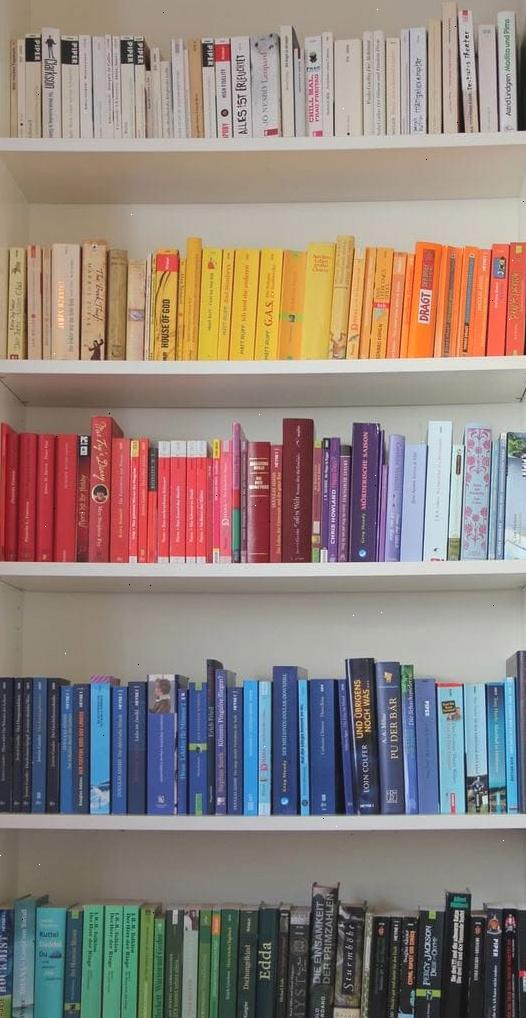book: (346, 659, 379, 816), (304, 880, 339, 1018), (281, 418, 314, 563), (374, 660, 404, 815), (459, 423, 492, 561), (12, 894, 47, 1018), (351, 423, 381, 567), (146, 676, 177, 815), (300, 242, 336, 360), (272, 667, 300, 817), (423, 421, 452, 563), (407, 242, 442, 359), (435, 680, 465, 816), (308, 678, 337, 817), (33, 900, 66, 1018), (438, 891, 468, 1018), (88, 418, 114, 560), (463, 683, 490, 816), (398, 440, 427, 563), (413, 675, 438, 816), (51, 243, 80, 363), (228, 250, 258, 362), (410, 907, 440, 1018), (150, 249, 179, 363), (81, 240, 108, 362), (506, 650, 526, 813), (328, 234, 354, 359), (276, 249, 305, 359), (255, 249, 283, 362), (246, 442, 271, 566), (54, 435, 78, 564), (483, 683, 506, 817), (367, 249, 394, 362), (455, 6, 479, 133), (89, 681, 111, 817), (383, 436, 406, 564), (253, 903, 278, 1018), (400, 666, 419, 817), (99, 904, 124, 1018), (79, 904, 104, 1018), (234, 904, 259, 1018), (484, 243, 509, 356), (250, 34, 277, 136), (187, 680, 207, 817), (198, 249, 222, 363), (17, 432, 38, 562), (468, 247, 492, 359), (333, 37, 360, 136), (118, 903, 141, 1018), (496, 12, 518, 132), (384, 250, 408, 360), (503, 242, 526, 356), (0, 424, 19, 562), (480, 905, 503, 1018), (127, 681, 146, 816), (111, 438, 131, 565), (186, 442, 207, 561), (30, 678, 48, 815), (161, 906, 183, 1018), (181, 239, 201, 362), (446, 440, 466, 562), (476, 21, 498, 131), (110, 684, 128, 818), (344, 252, 366, 361), (135, 905, 156, 1018), (107, 250, 128, 361), (6, 246, 26, 361), (179, 903, 199, 1018), (73, 436, 91, 563), (442, 3, 459, 134), (213, 670, 228, 816), (257, 681, 273, 817), (242, 680, 258, 816), (205, 905, 224, 1018), (41, 31, 61, 138), (58, 687, 74, 818), (304, 33, 324, 136), (126, 259, 146, 361), (218, 439, 234, 566), (228, 683, 243, 818), (194, 906, 212, 1018), (214, 38, 234, 138), (231, 37, 251, 137), (325, 439, 341, 564), (61, 33, 80, 138), (118, 34, 137, 138), (280, 27, 298, 135), (23, 35, 42, 136), (409, 26, 427, 132), (171, 442, 187, 558), (187, 37, 205, 137), (27, 246, 42, 363), (427, 19, 442, 131), (158, 445, 172, 565), (232, 424, 244, 563), (269, 445, 283, 564), (92, 35, 108, 138), (201, 37, 217, 136), (171, 39, 187, 137), (385, 37, 401, 133), (210, 439, 222, 564), (513, 905, 526, 1018), (78, 36, 92, 140), (146, 443, 158, 562), (138, 439, 149, 565), (159, 55, 175, 138), (321, 34, 334, 136), (361, 33, 374, 134), (372, 32, 385, 133), (149, 48, 163, 140), (43, 245, 54, 361), (111, 37, 123, 142), (400, 31, 411, 132), (9, 39, 19, 138)
